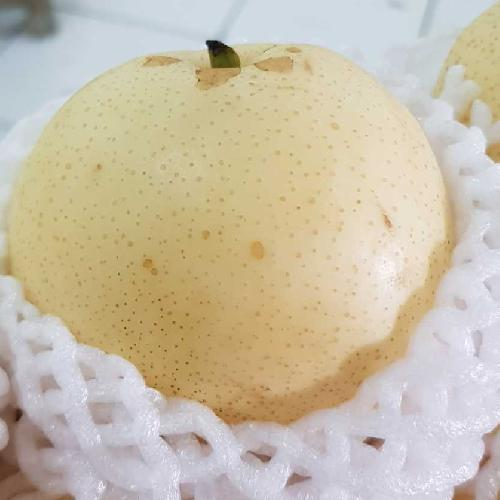Pear Overripe: (115, 49, 330, 96)
Pear Ripe: (1, 43, 465, 404)
